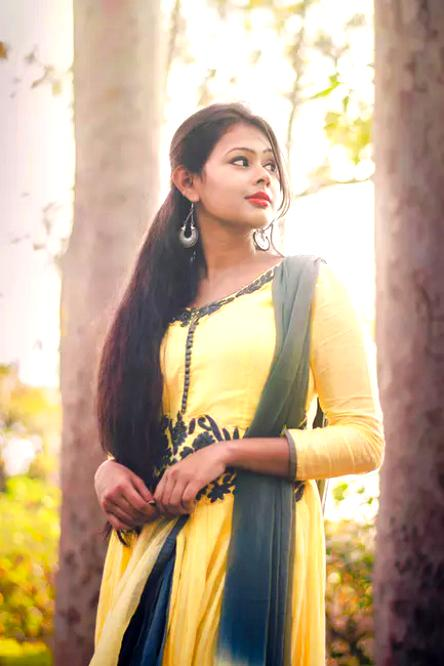face: (203, 126, 276, 227)
